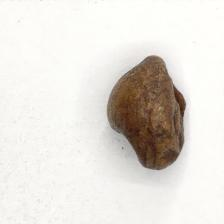NG: (107, 55, 186, 169)
